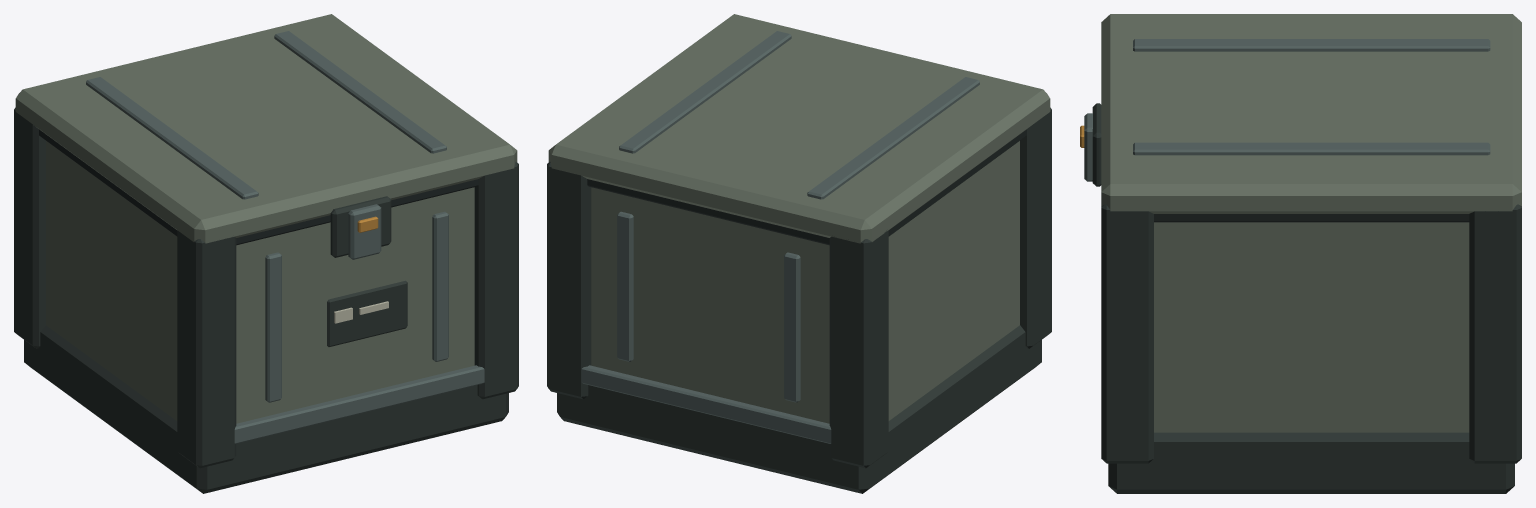
The model's file is CargoCrate.glb.
The picture shows the model from 3 angles, left to right: view 1: azimuth 30°, elevation 25°; view 2: azimuth 150°, elevation 25°; view 3: azimuth 270°, elevation 25°; orthographic projection. The views are drawn at different scales.
Visible parts, largest first — view 1: CargoCrate; view 2: CargoCrate; view 3: CargoCrate.
Part boxes in pixels (<box>): CargoCrate: <box>14,14,518,493</box>; CargoCrate: <box>547,14,1051,493</box>; CargoCrate: <box>1080,14,1521,493</box>.
Size of the model in its own units: 1.2 by 1 by 1.26.
Materials: 1 (1 with a texture image).
